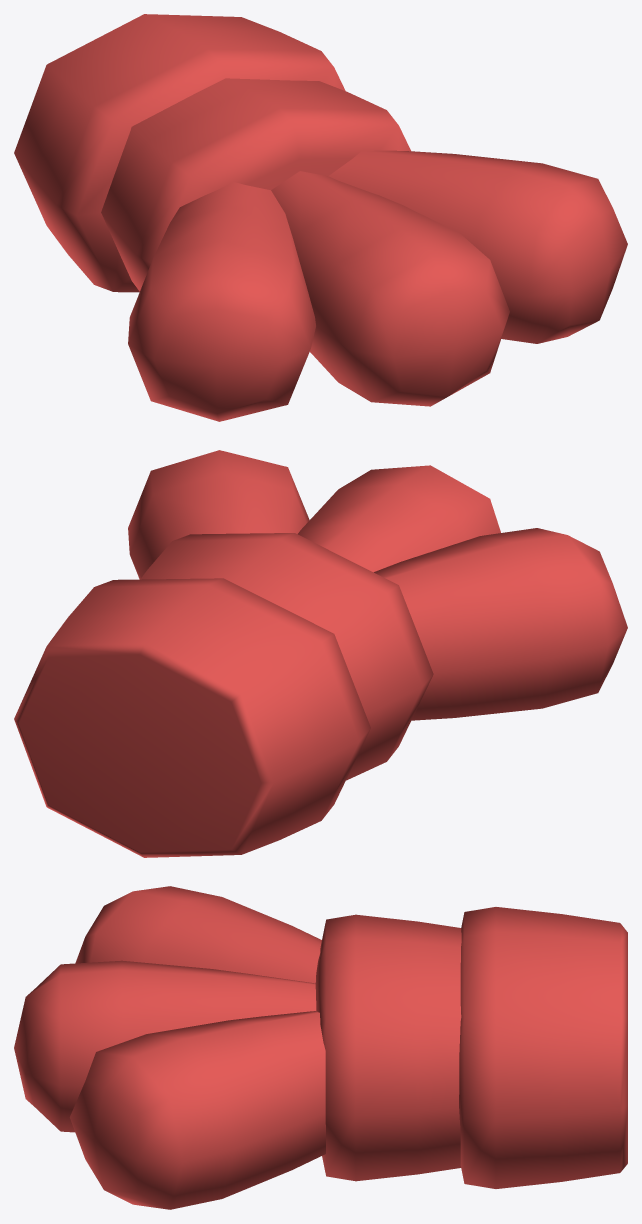
The model's file is Lobster_1_Half_2.fbx.
3 renders of one model, top to bottom at view 1: azimuth 30°, elevation 25°; view 2: azimuth 150°, elevation 25°; view 3: azimuth 270°, elevation 25°, orthographic. The views are drawn at different scales.
Parts seen in each view (by area): view 1: Lobster_1_Half_2; view 2: Lobster_1_Half_2; view 3: Lobster_1_Half_2.
Part boxes in pixels (<box>): Lobster_1_Half_2: <box>14,14,627,421</box>; Lobster_1_Half_2: <box>14,450,627,857</box>; Lobster_1_Half_2: <box>14,886,627,1209</box>.
Bounding box in the file's own units: 22.02 × 10.41 × 24.96.
